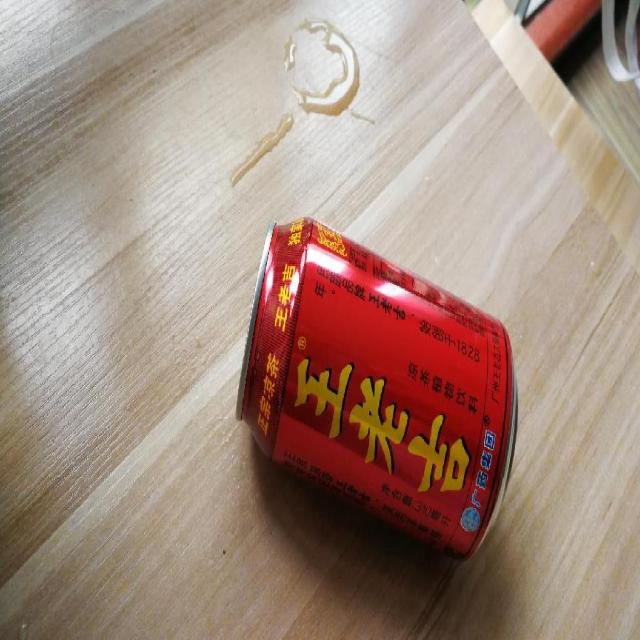-Recyclables - can-: (231, 214, 522, 556)
